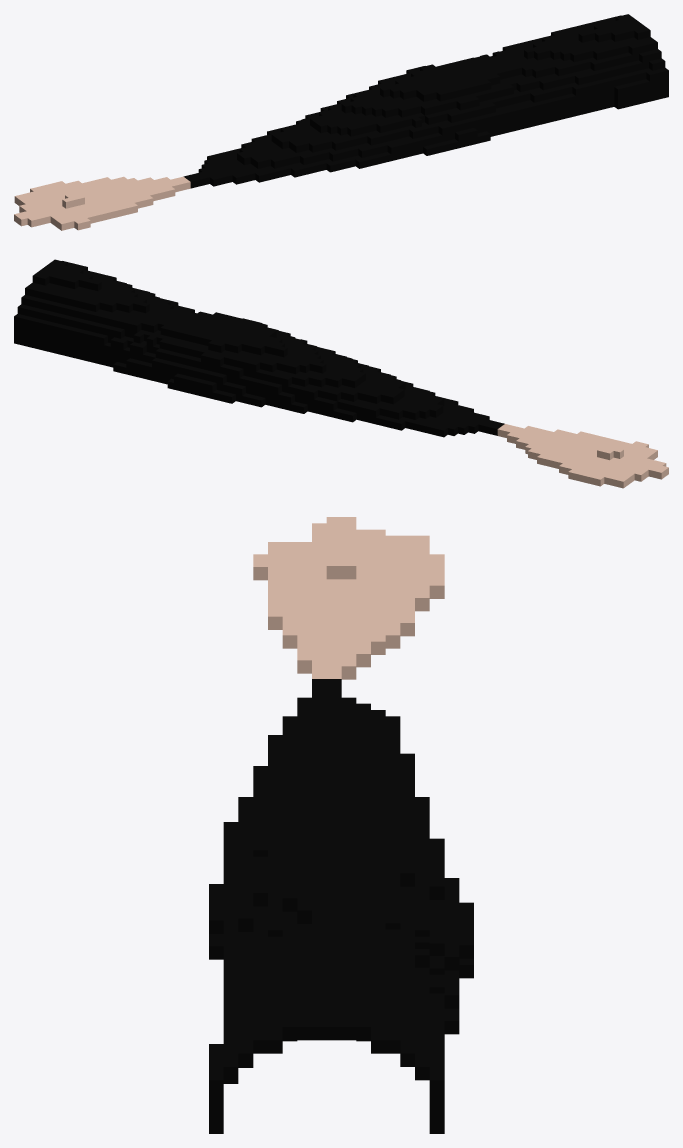
The model's file is kun-2.obj.
3 views of the same model, one above another, from view 1: azimuth 30°, elevation 25°; view 2: azimuth 150°, elevation 25°; view 3: azimuth 270°, elevation 25° (orthographic). The views are drawn at different scales.
Size of the model in its own units: 9.7 by 0.8 by 1.8.
1 material, 1 textured.
